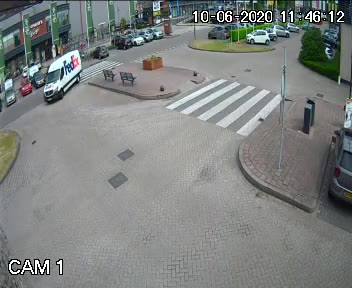car: (42, 47, 87, 105)
